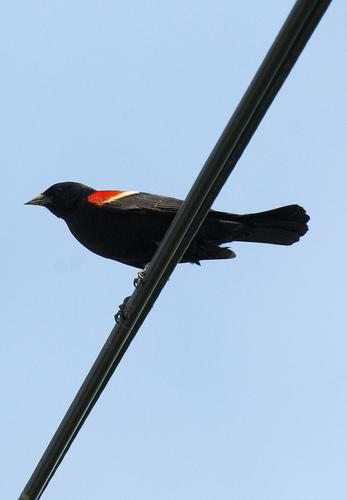010.Red_winged_Blackbird: (18, 180, 315, 324)
